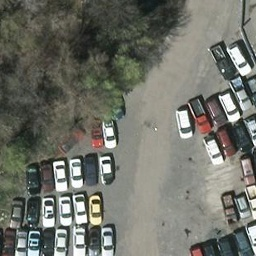car: (228, 42, 251, 75), (211, 44, 234, 77), (189, 98, 212, 131), (221, 192, 241, 224), (204, 95, 226, 123), (219, 91, 241, 119), (230, 79, 252, 107), (216, 128, 238, 156), (229, 119, 251, 147), (234, 156, 256, 184), (88, 113, 105, 149), (103, 111, 120, 147), (25, 160, 42, 196), (38, 158, 55, 194), (51, 156, 68, 192), (67, 154, 84, 190), (80, 153, 97, 189), (96, 150, 113, 186), (87, 191, 104, 227), (72, 189, 89, 225), (57, 191, 74, 227), (41, 191, 58, 227), (25, 194, 42, 230), (7, 193, 24, 229), (176, 107, 193, 140), (204, 133, 221, 166), (234, 192, 252, 220), (15, 230, 31, 256), (100, 229, 115, 256), (1, 230, 16, 256), (27, 231, 41, 256), (40, 231, 54, 256), (54, 231, 68, 256), (73, 231, 87, 256), (86, 231, 100, 256)
